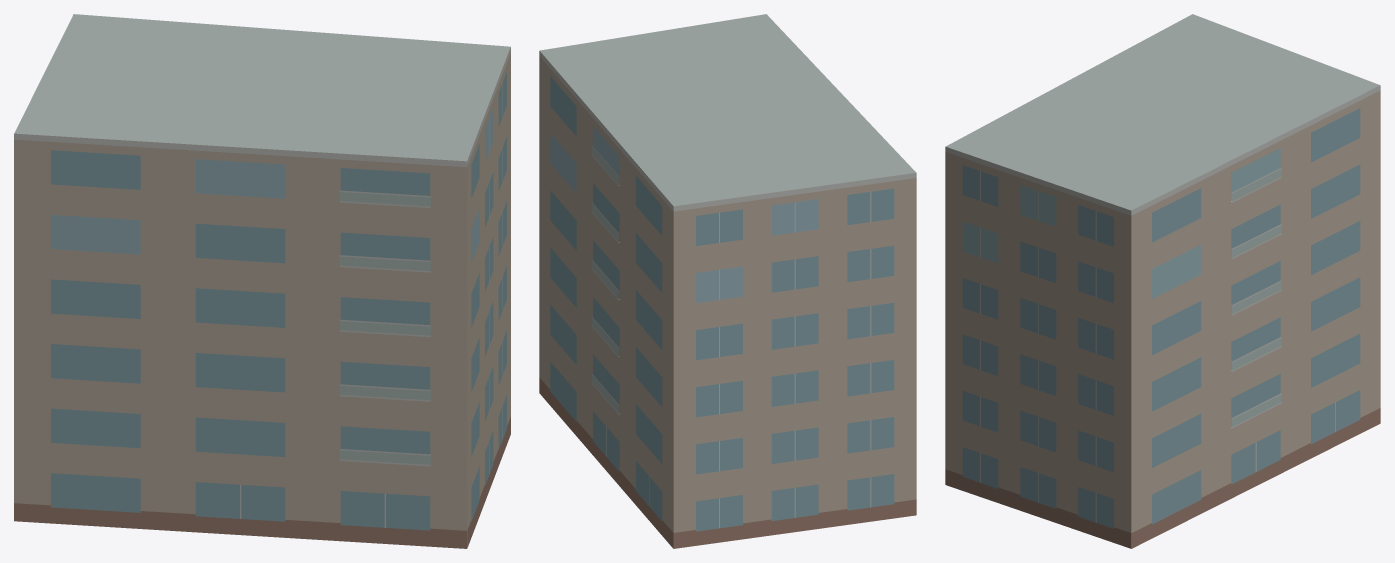
The model's file is survey-upis-32568507.glb.
3 views of the same model, side by side, from view 1: azimuth 30°, elevation 25°; view 2: azimuth 150°, elevation 25°; view 3: azimuth 270°, elevation 25° (orthographic). The views are drawn at different scales.
Visible parts, largest first — view 1: survey-upis-32568507.tmp; view 2: survey-upis-32568507.tmp; view 3: survey-upis-32568507.tmp.
Part boxes in pixels (x1,y1,x2,y2): survey-upis-32568507.tmp: [14, 14, 510, 548]; survey-upis-32568507.tmp: [539, 14, 916, 548]; survey-upis-32568507.tmp: [945, 14, 1380, 548].
Size of the model in its own units: 19.95 by 16 by 18.66.
